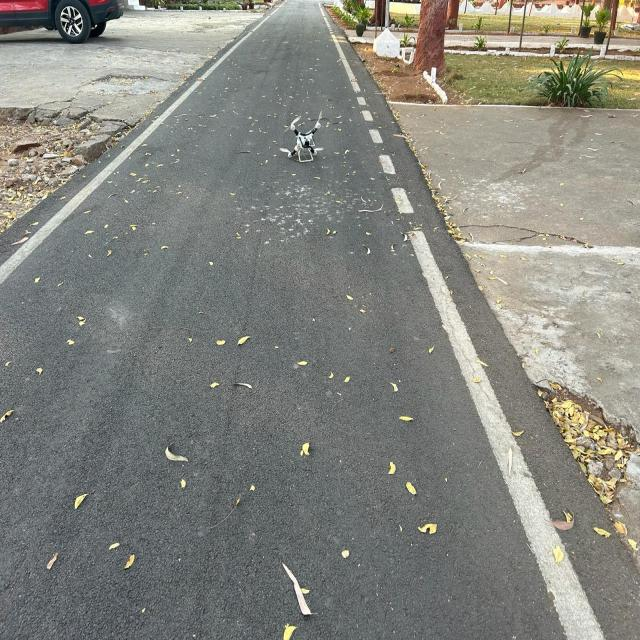drone: (264, 81, 347, 209)
